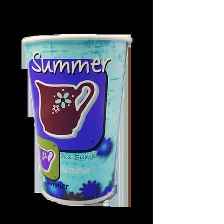paper_cup: (13, 26, 139, 212)
